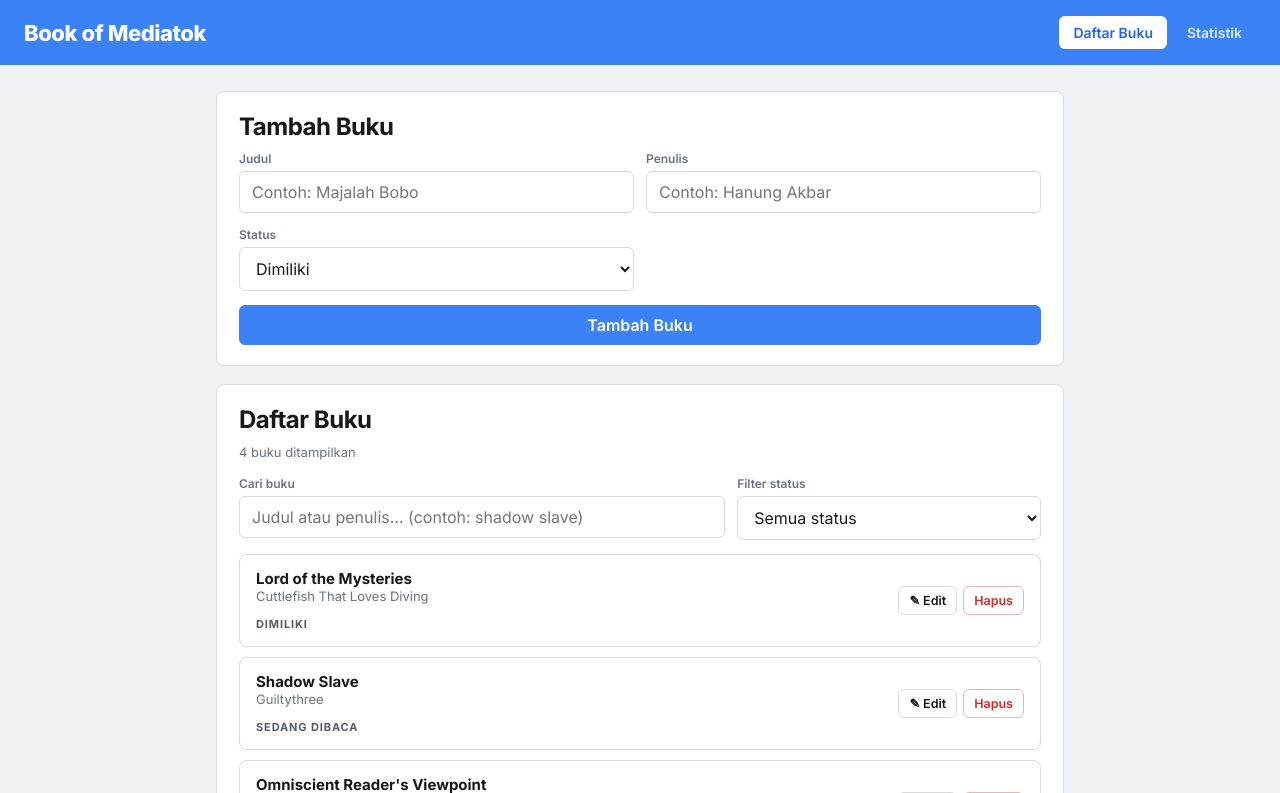
Integrasi App (React Router) › berpindah ke halaman Statistik saat link diklik
Click the link "Statistik".
click(1214, 32)  # box left=1187, top=24, right=1242, bottom=41
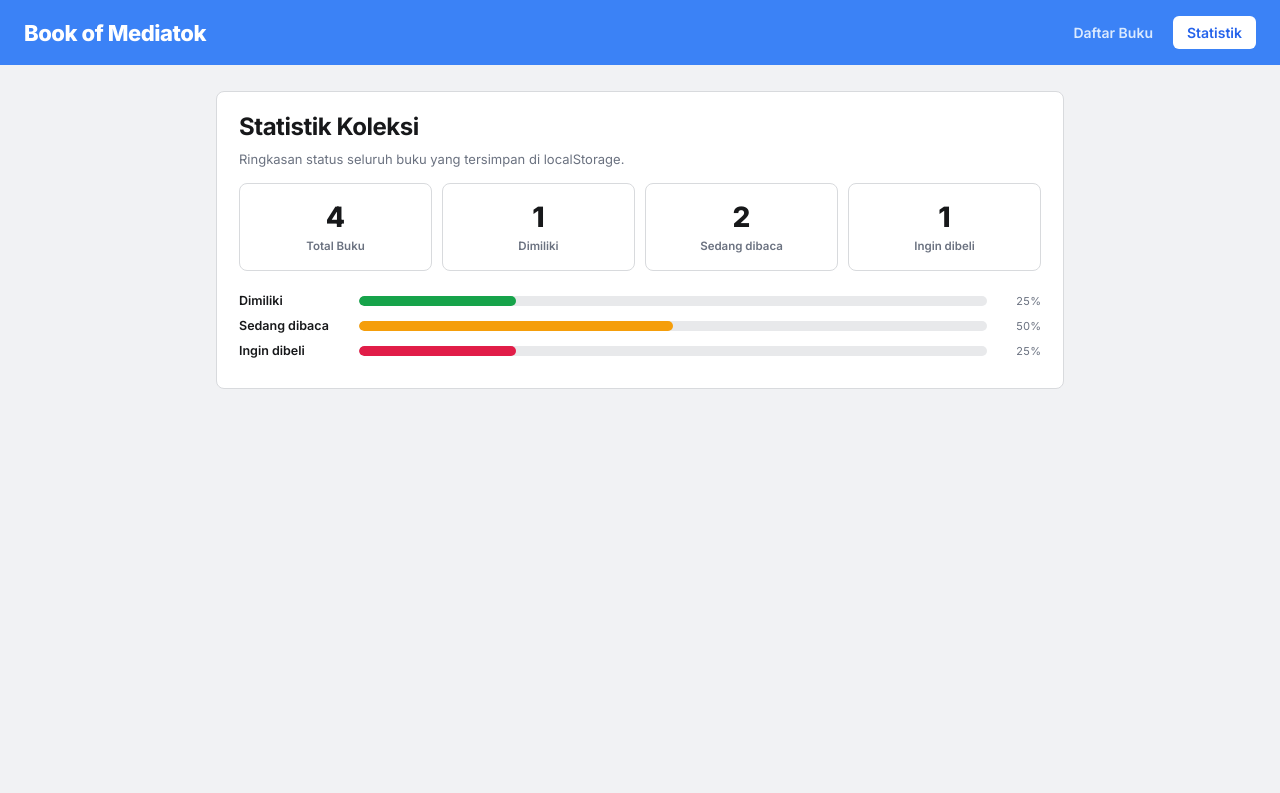
Expected: the text "4" is shown, left=326, top=200, right=345, bottom=234
Expected: the heading "Statistik Koleksi" is shown, left=239, top=112, right=419, bottom=141
